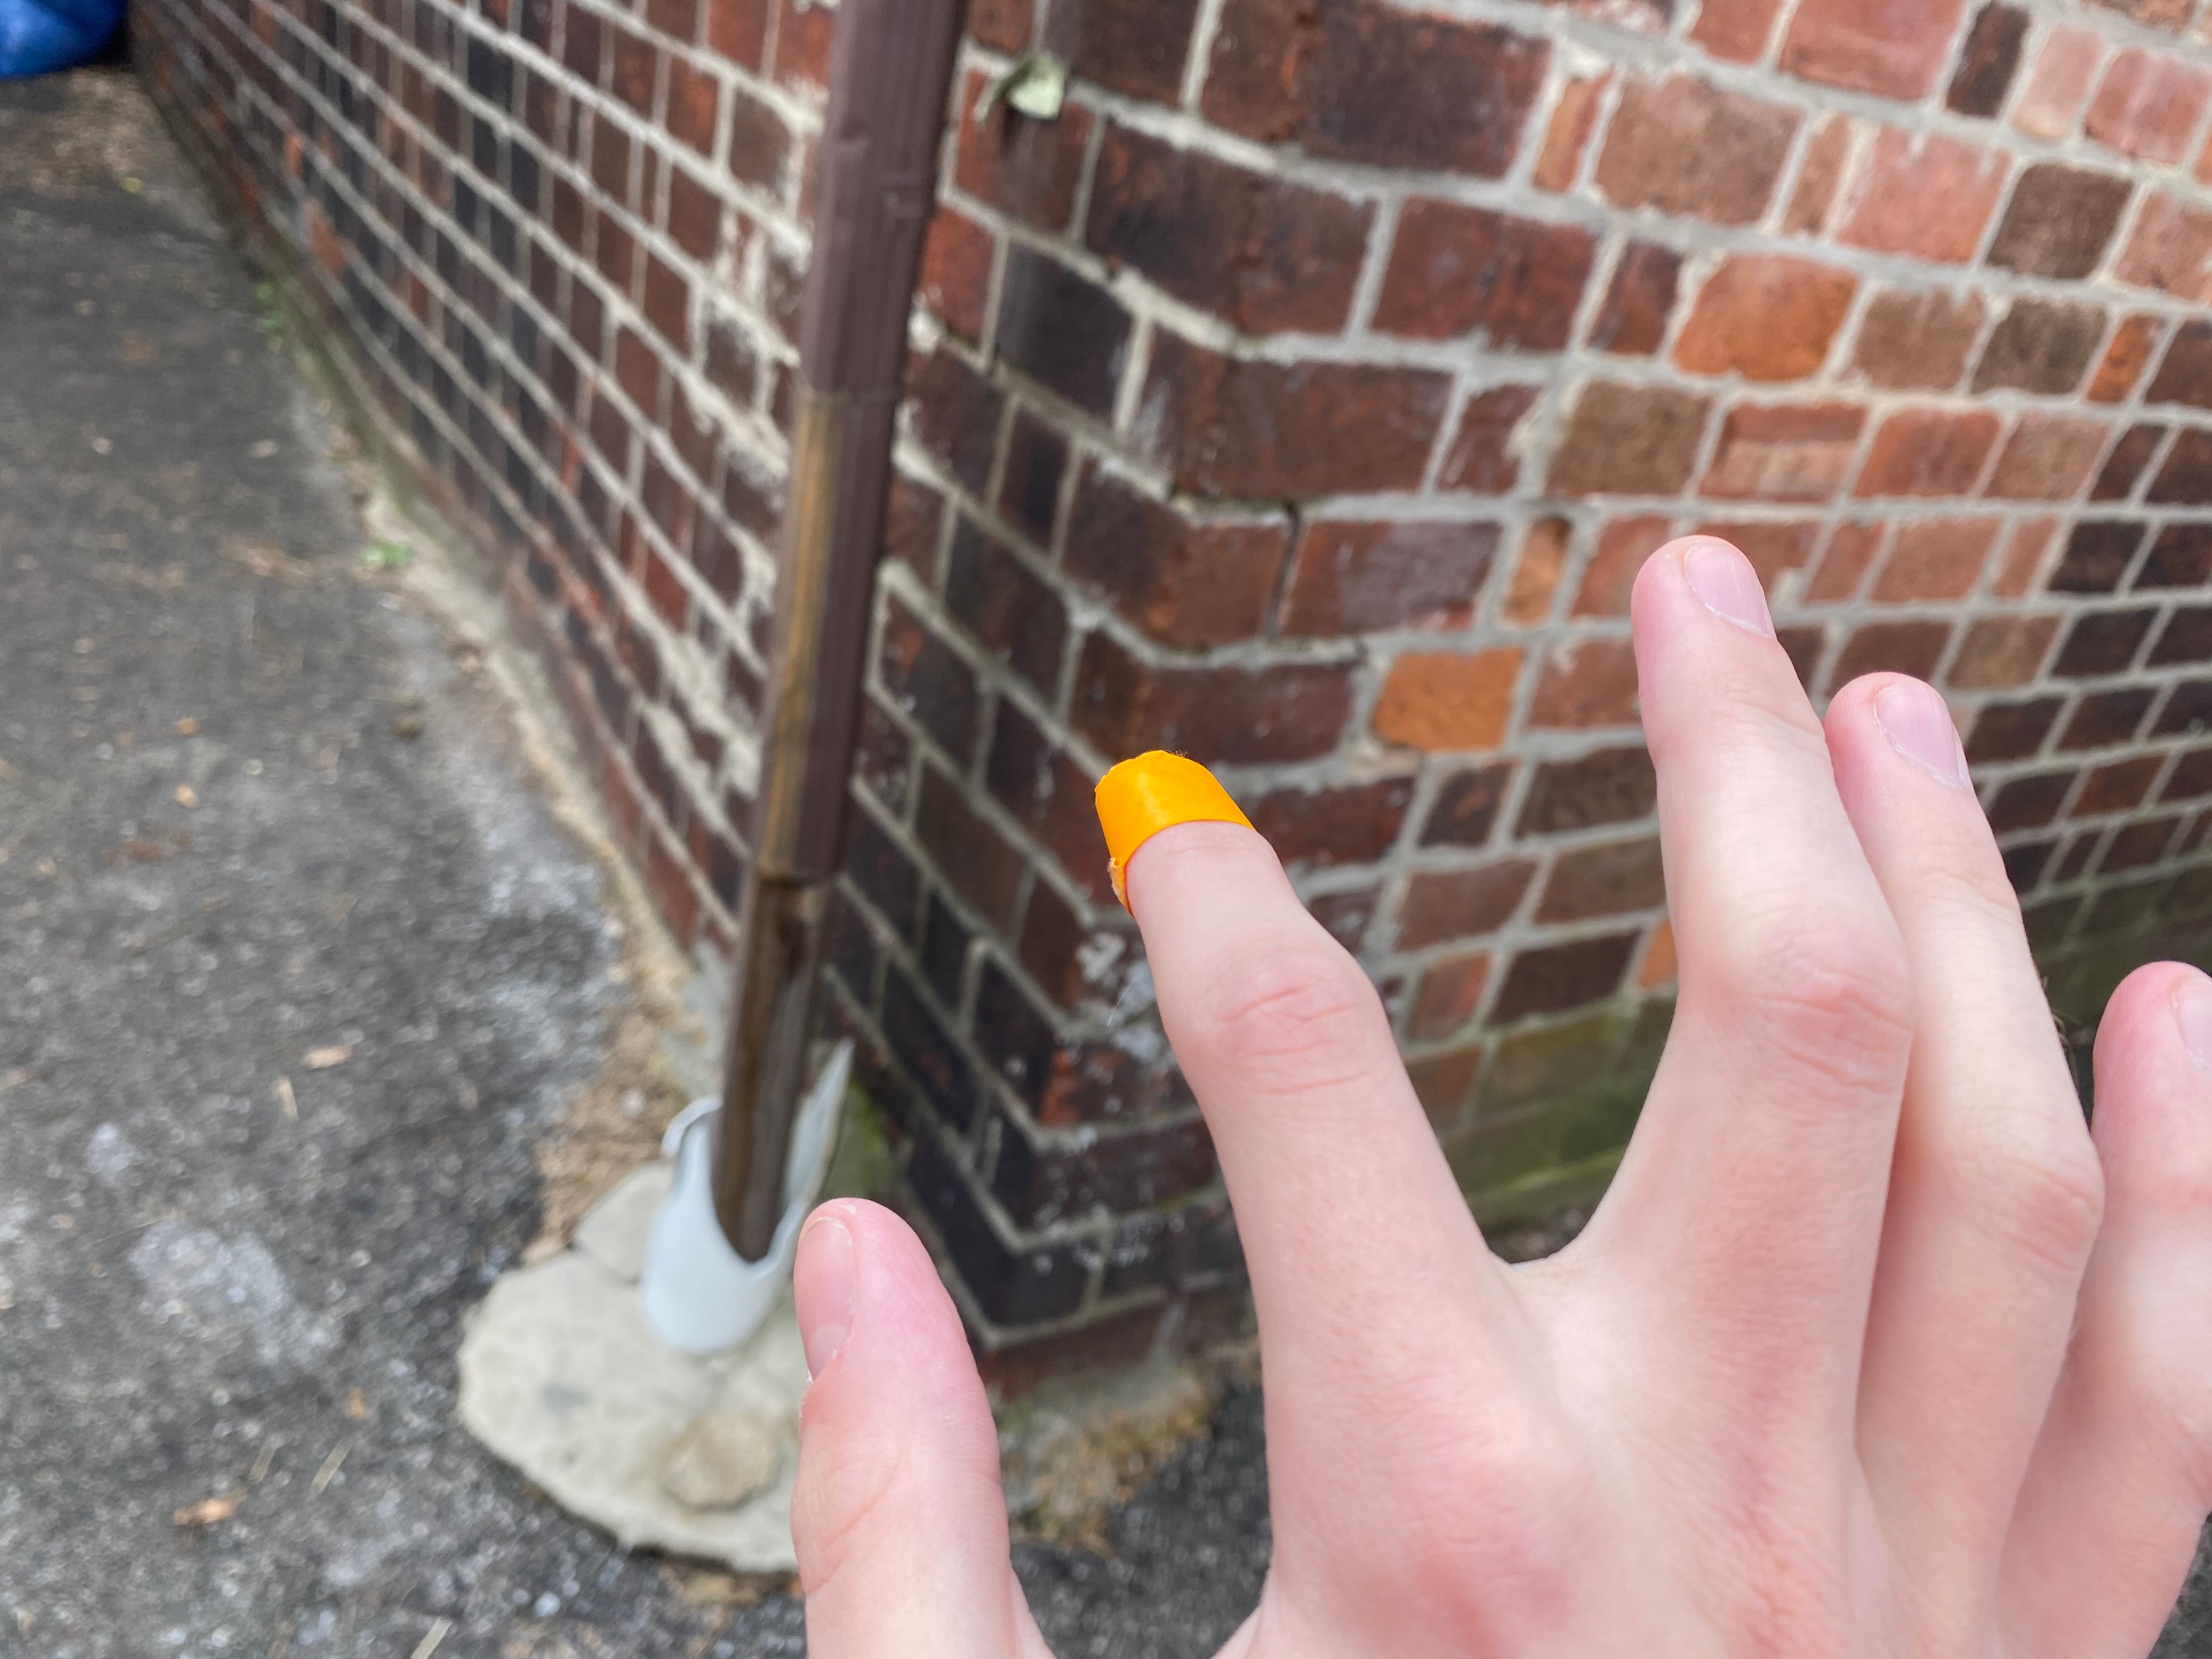fingertip: (1064, 739, 1275, 934)
